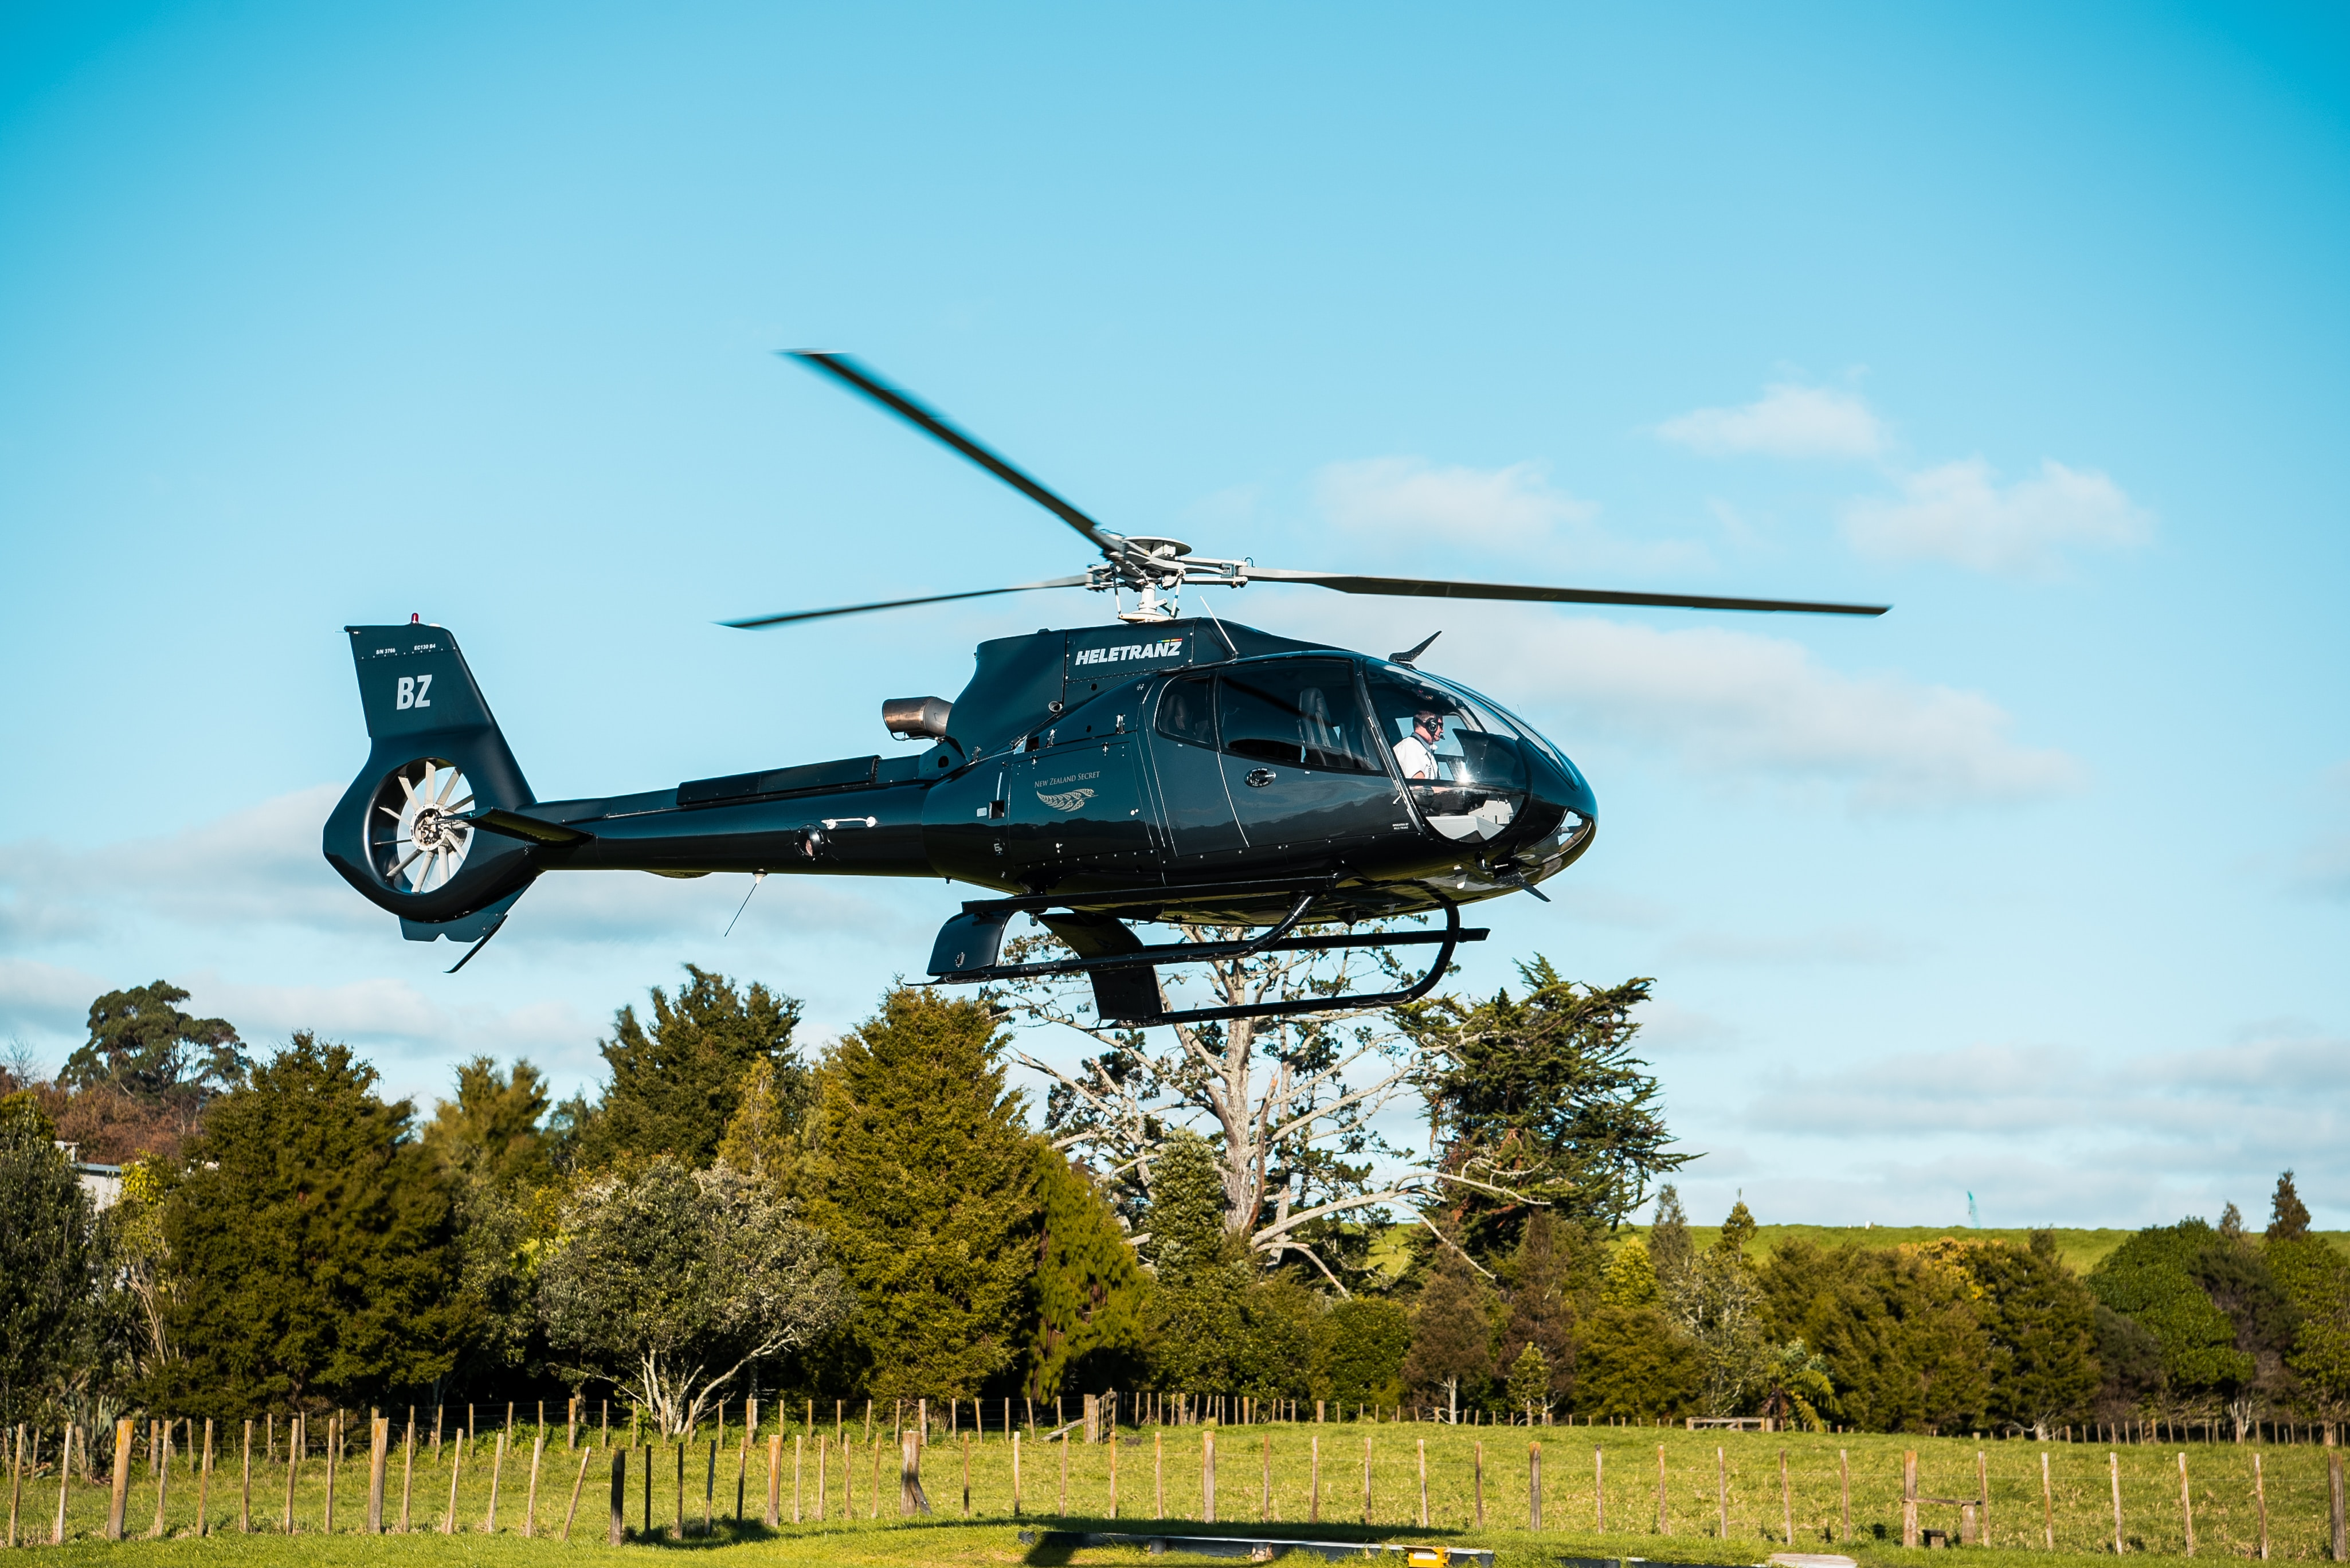helicopter: (201, 201, 2061, 1050)
